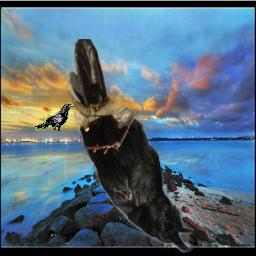Crow: (68, 39, 195, 255), (36, 103, 75, 132)
